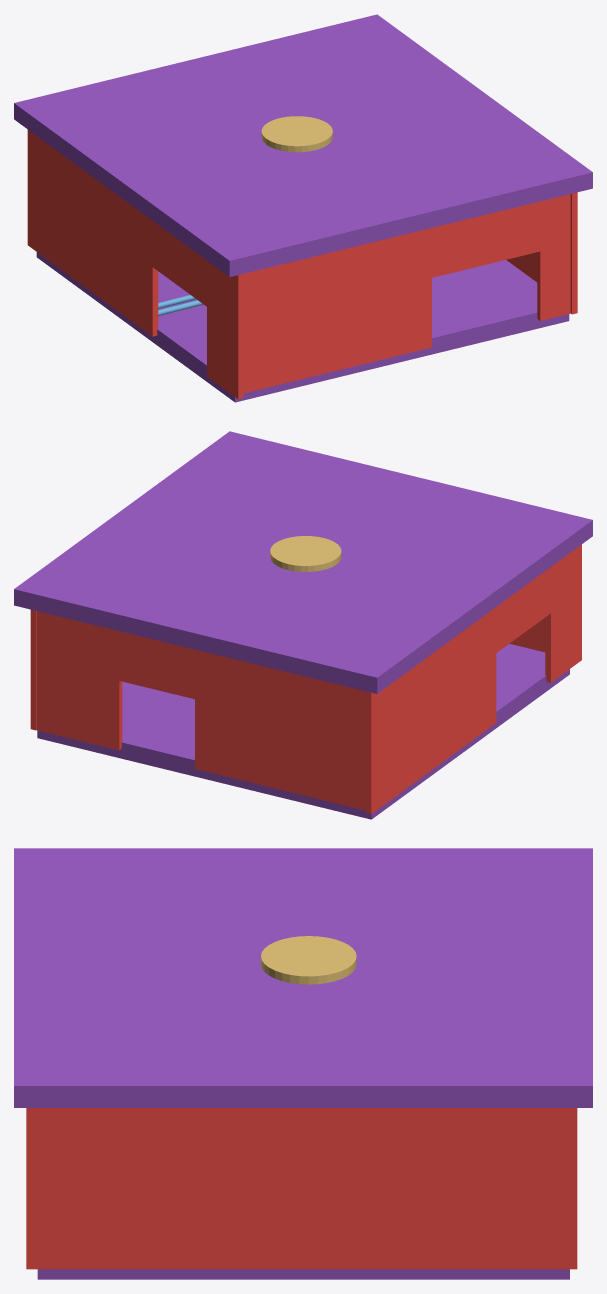
Rendered from enerugi-.fbx.
The picture shows the model from 3 angles, top to bottom: view 1: azimuth 30°, elevation 25°; view 2: azimuth 150°, elevation 25°; view 3: azimuth 270°, elevation 25°; orthographic projection. The views are drawn at different scales.
Visible parts, largest first — view 1: Cube.019, Cube.010, Cube.016, Cube, Cylinder.005, Cube.018; view 2: Cube.019, Cube.015, Cube.016, Cube, Cylinder.005, Cube.018, Cube.010; view 3: Cube.019, Cube.018, Cube, Cylinder.005.
Part boxes in pixels (x1,y1,x2,y2): Cube.019: (14, 14, 592, 276); Cube.010: (243, 194, 570, 393); Cube.016: (27, 129, 243, 399); Cube: (36, 252, 569, 402); Cylinder.005: (261, 116, 332, 152); Cube.018: (506, 192, 577, 314); Cube.019: (14, 431, 592, 693); Cube.015: (36, 611, 365, 810); Cube.016: (365, 544, 581, 814); Cube: (37, 643, 569, 819); Cylinder.005: (270, 536, 341, 571); Cube.018: (30, 609, 36, 730); Cube.010: (510, 618, 545, 652); Cube.019: (14, 848, 592, 1107); Cube.018: (26, 1108, 577, 1269); Cube: (37, 1269, 569, 1279); Cylinder.005: (261, 936, 356, 984).
Size of the model in its own units: 4666 by 1935 by 4798.
